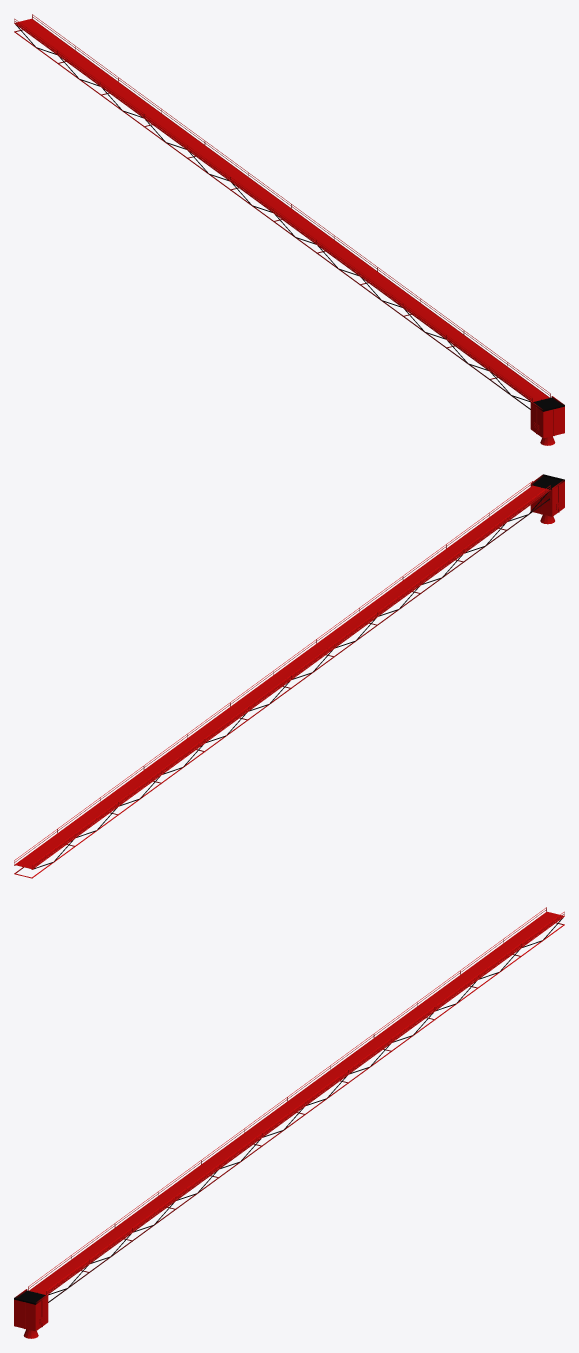
The model's file is feed_cabin.glb.
3 renders of one model, top to bottom at view 1: azimuth 30°, elevation 25°; view 2: azimuth 150°, elevation 25°; view 3: azimuth 330°, elevation 25°, orthographic.
Visible parts, largest first — view 1: feed_cabin; view 2: feed_cabin; view 3: feed_cabin.
Part boxes in pixels (bbox=[...]): feed_cabin: bbox=[14, 14, 564, 445]; feed_cabin: bbox=[14, 474, 564, 878]; feed_cabin: bbox=[14, 907, 564, 1338].
Size of the model in its own units: 6.36 by 11.17 by 253.
